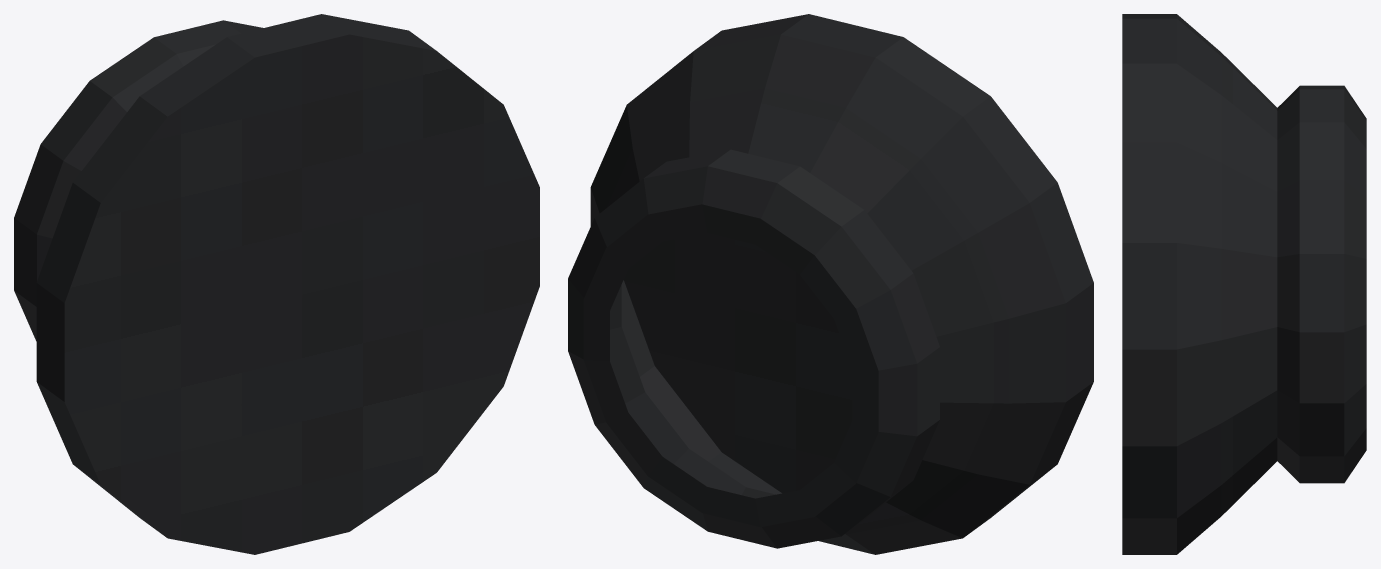
The model's file is decopole_lahollywood_tenon_s.obj.
3 renders of one model, left to right at view 1: azimuth 30°, elevation 25°; view 2: azimuth 150°, elevation 25°; view 3: azimuth 270°, elevation 25°, orthographic. The views are drawn at different scales.
Parts seen in each view (by area): view 1: decopole_lahollywood_tenon_s; view 2: decopole_lahollywood_tenon_s; view 3: decopole_lahollywood_tenon_s.
Boxes of the visible parts, x1,y1,x2,y2 form: decopole_lahollywood_tenon_s: [14, 14, 539, 554]; decopole_lahollywood_tenon_s: [568, 14, 1093, 554]; decopole_lahollywood_tenon_s: [1122, 14, 1366, 554].
Bounding box in the file's own units: 0.6007 × 0.6007 × 0.2737.
